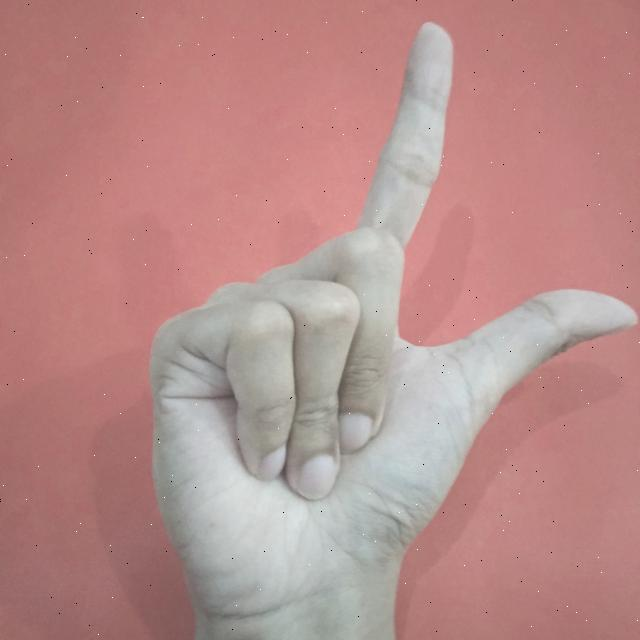L: (141, 16, 640, 640)
